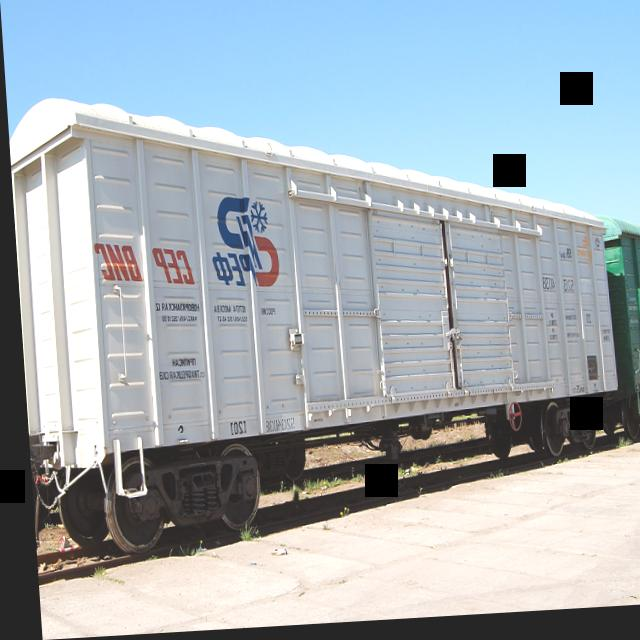boxcar: (4, 45, 623, 565), (604, 199, 640, 440)
